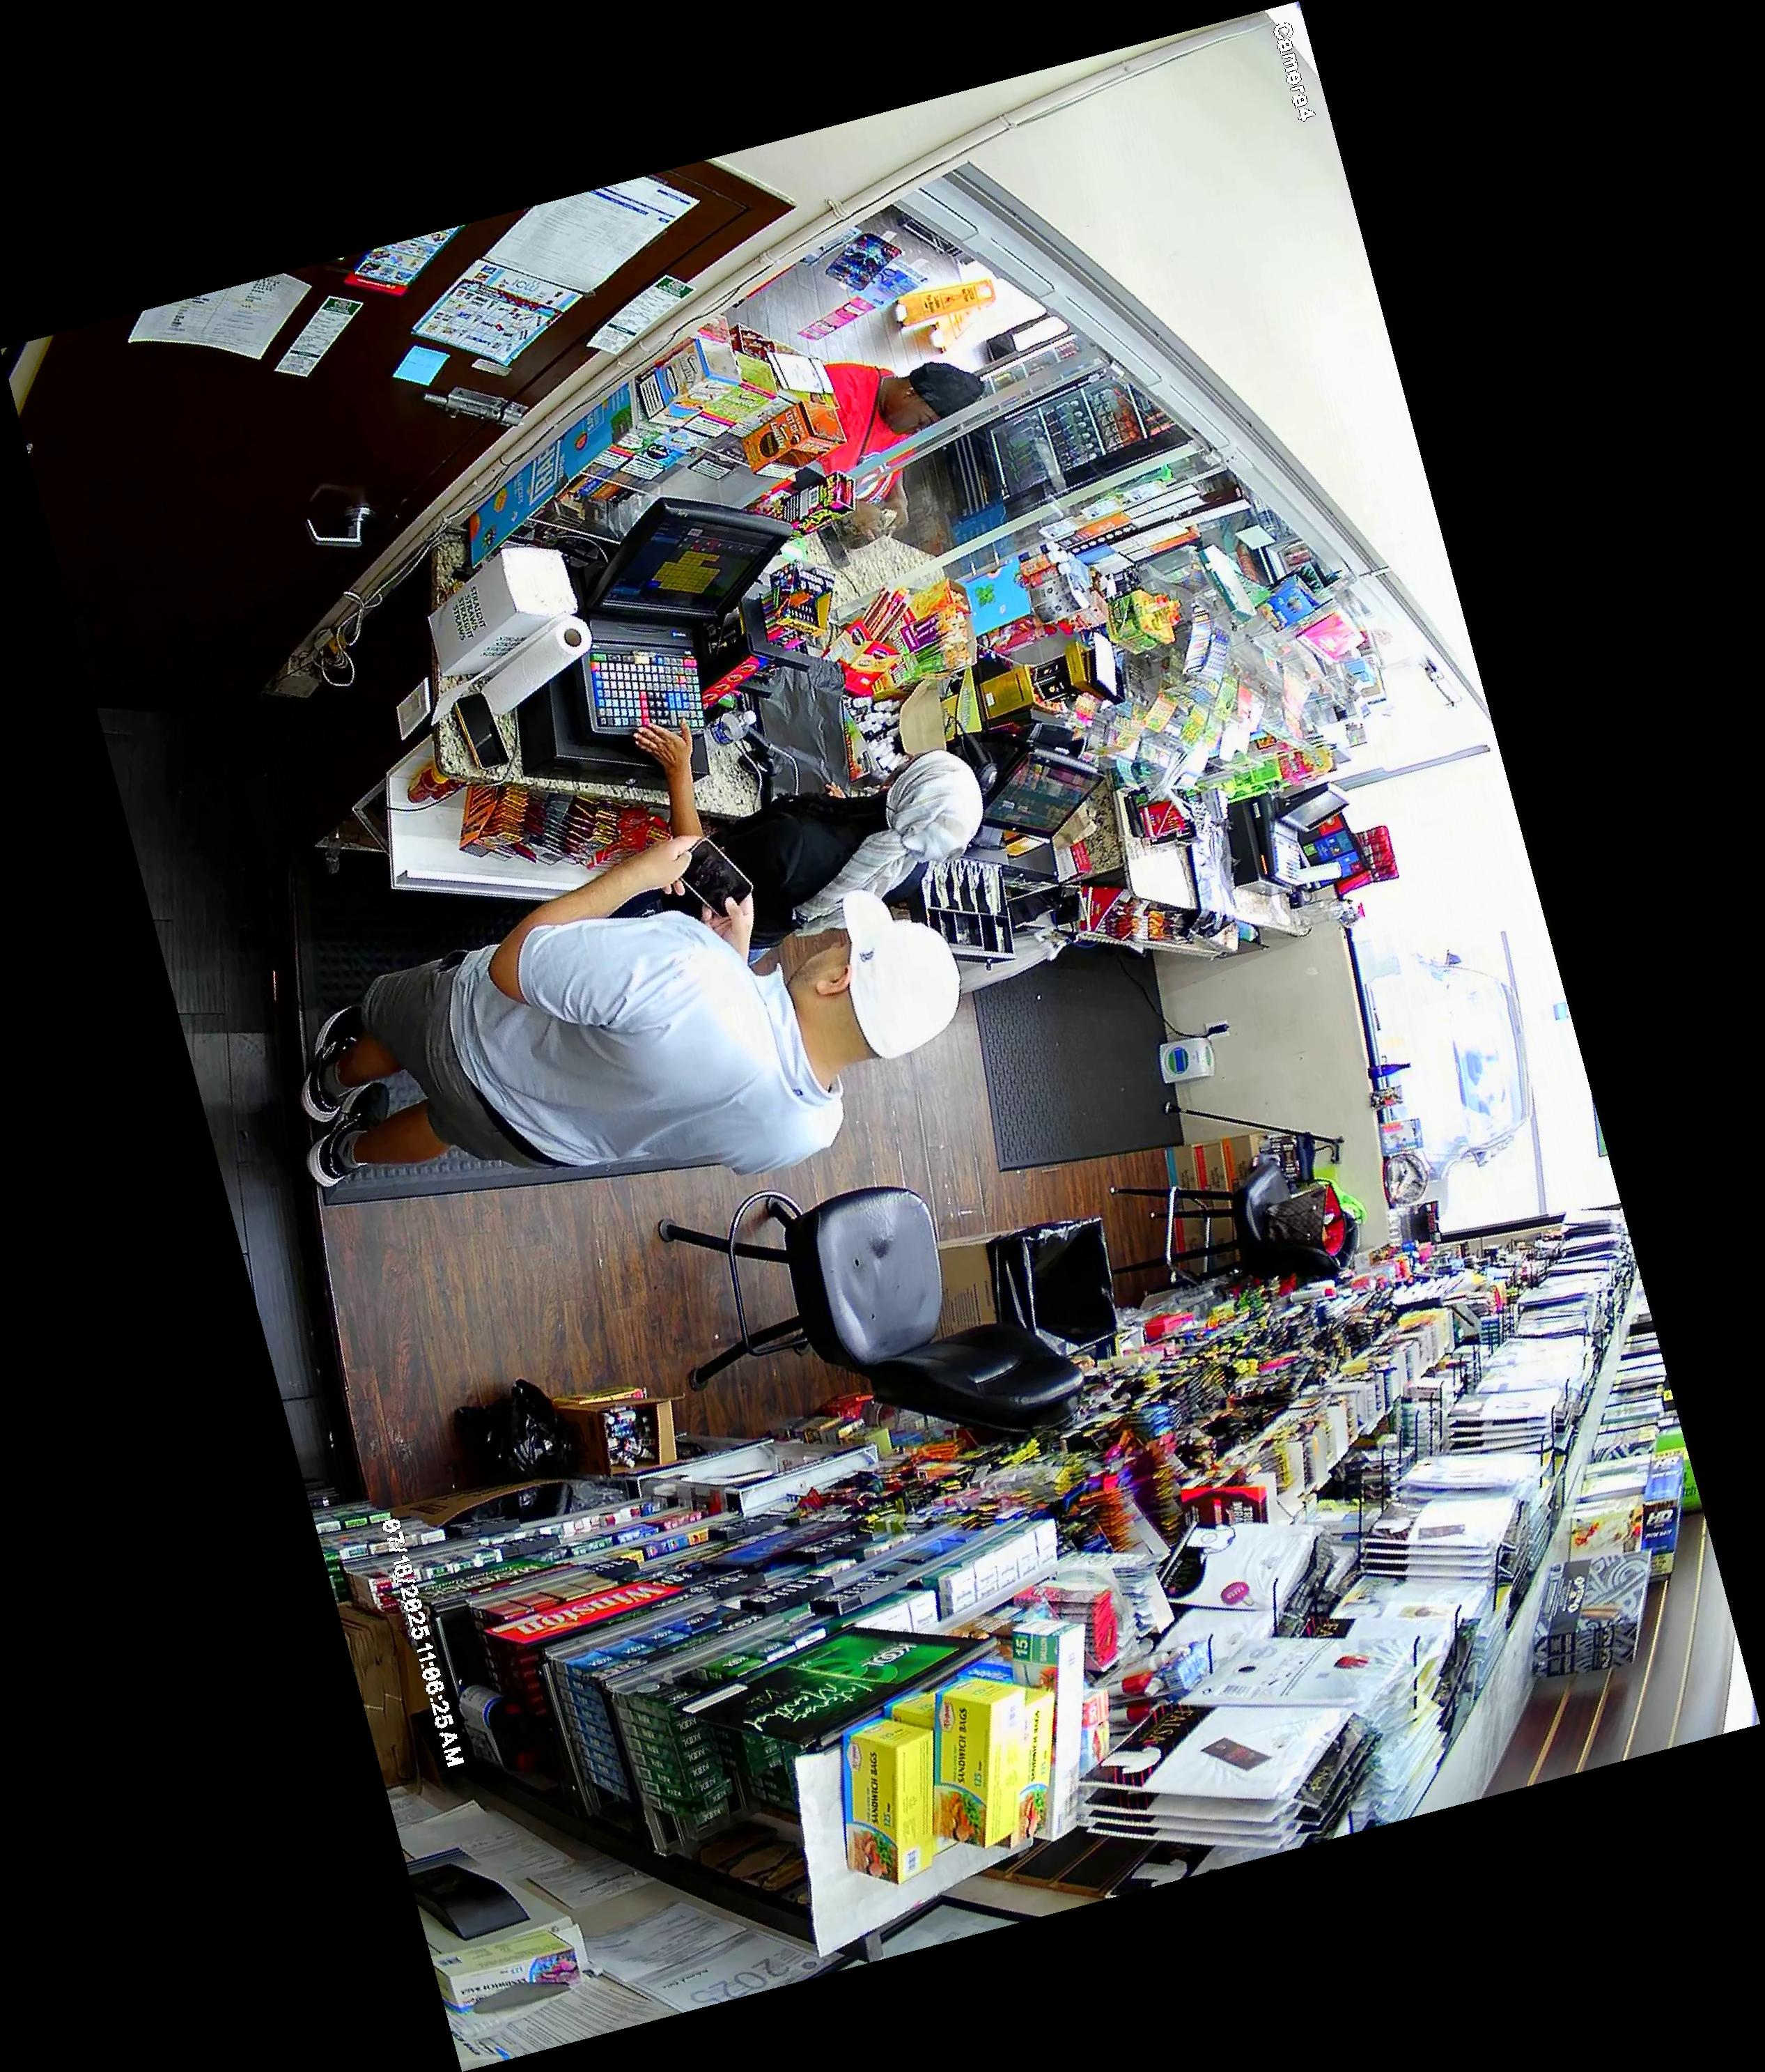phone: (664, 828, 760, 921)
